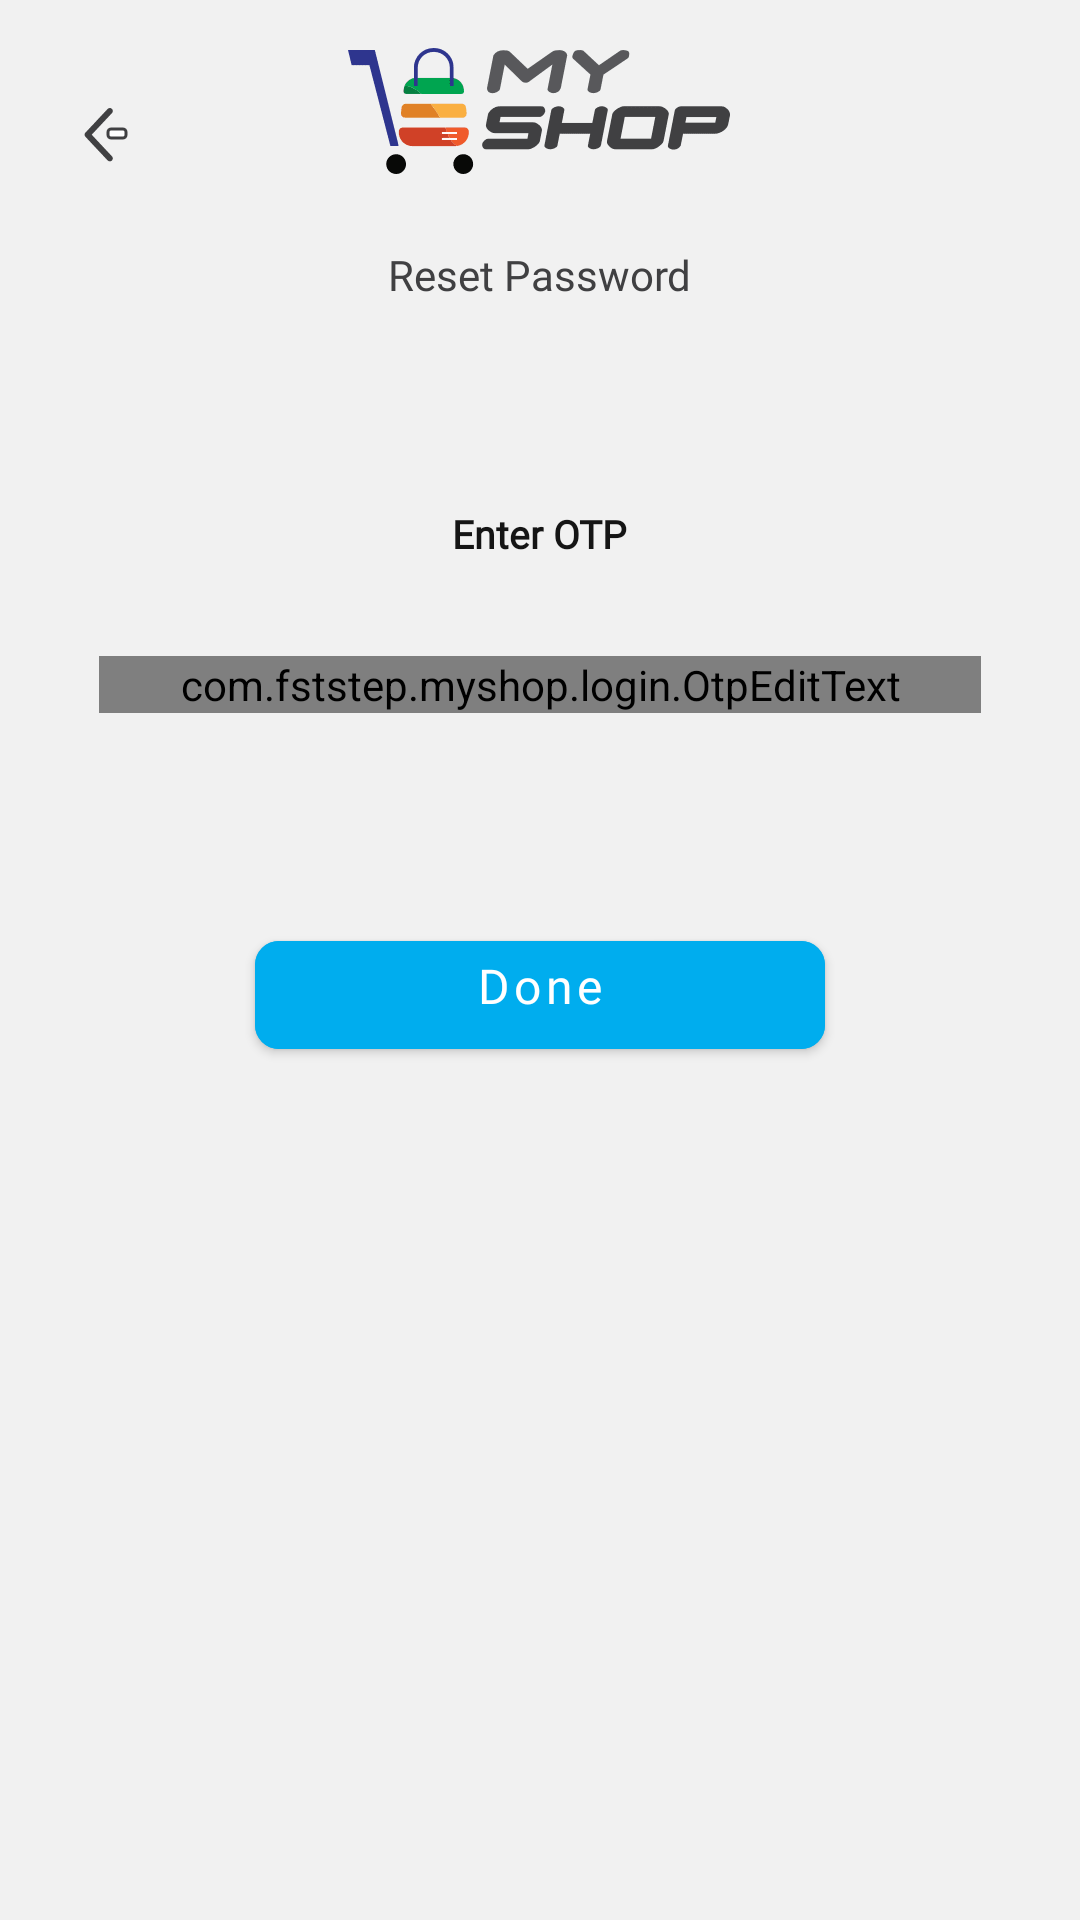

Icon bounding boxes for this 1080x1920 phone screenshot, format (x1, y1, x2, y2):
back arrow: (84, 108, 128, 162)
